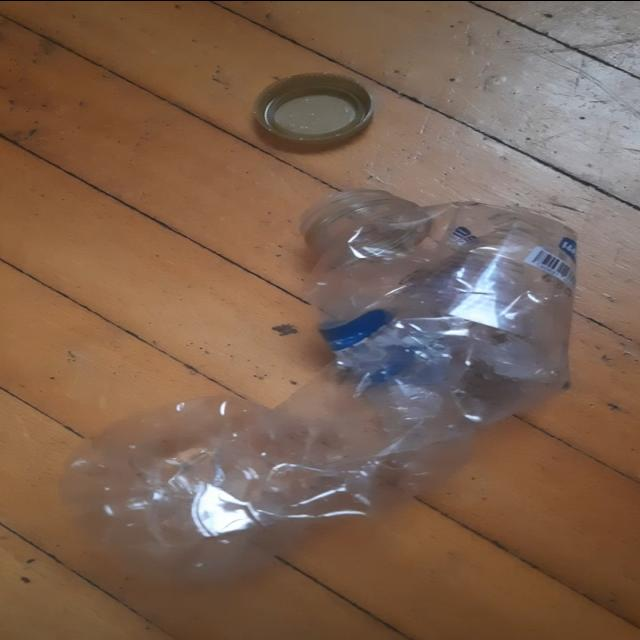Plastic: (58, 190, 578, 570), (254, 70, 375, 155)
